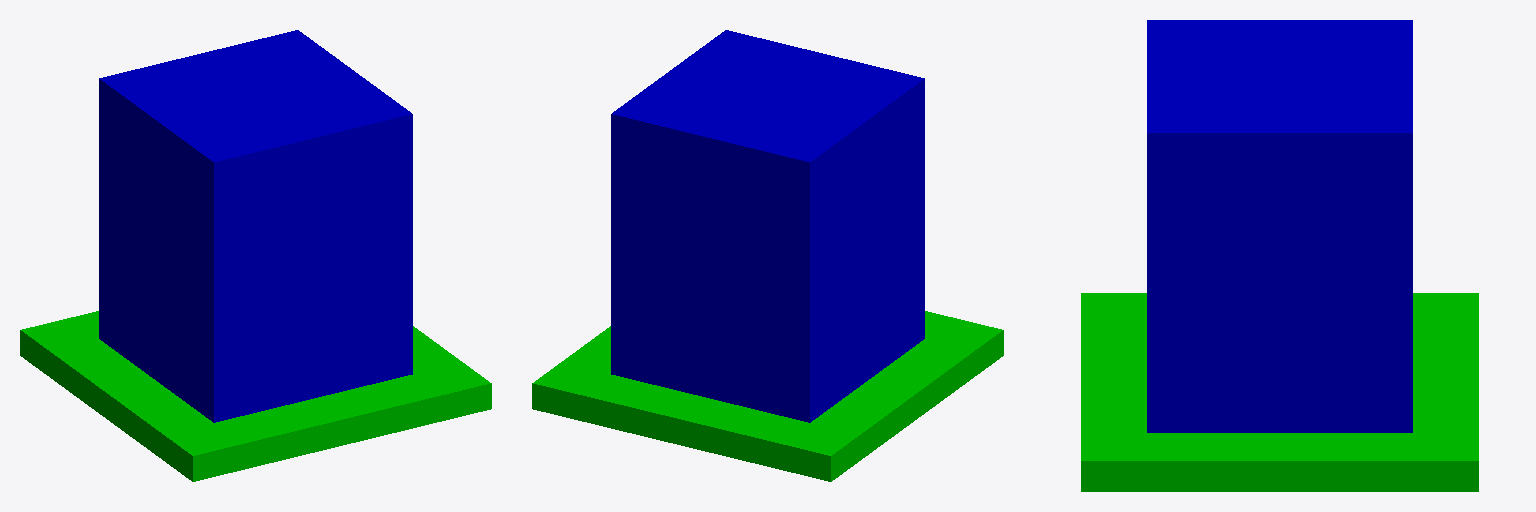
The robot description file, URDF, robot "table":
<?xml version="1.0"?>
<robot name="table">
    <link name="base">
        <inertial>
            <mass value="0.0"/>
            <inertia ixx="0.0" ixy="0.0" ixz="0.0" iyy="0.0" iyz="0.0" izz="0.0"/>
        </inertial>
        <visual>
            <origin xyz="0.0 0.0 0.0" rpy="0.0 0.0 0.0"/>
            <geometry>
                <box size="1.2 1.2 0.1"/>
            </geometry>
            <material name="green">
                <color rgba="0.0 0.8 0.0 1.0"/>
            </material>
        </visual>
    </link>

    <link name="collision_to_base">
        <inertial>
            <origin xyz="0.0 0.0 0.0" rpy="0.0 0.0 0.0"/>
            <mass value="0.0"/>
            <inertia ixx="0.0" ixy="0.0" ixz="0.0" iyy="0.0" iyz="0.0" izz="0.0"/>
        </inertial>
        <collision>
            <origin xyz="0.0 0.0 0.0" rpy="0.0 0.0 0.0"/>
            <geometry>
                <box size="1.2 1.2 0.1"/>
            </geometry>
        </collision>
    </link>

    <joint name="collision2base" type="fixed">
        <origin xyz="0.0 0.0 0.0" rpy="0.0 0.0 0.0"/>
        <parent link="base"/>
        <child link="collision_to_base"/>
    </joint>
    
    <link name="buttom">
        <inertial>
            <origin xyz="0.0 0.0 0.0" rpy="0.0 0.0 0.0"/>
            <mass value="100.0"/>
            <inertia ixx="100.0" ixy="0.0" ixz="0.0" iyy="10.0" iyz="0.0" izz="10.0"/>
        </inertial>
        <visual>
            <origin xyz="0.0 0.0 0.0" rpy="0.0 0.0 0.0"/>
            <geometry>
                <box size="0.8 0.8 1.0"/>
            </geometry>
            <material name="blue">
                <color rgba="0.0 0.0 0.8 1.0"/>
            </material>
        </visual>
        <collision>
            <origin xyz="0.0 0.0 0.0" rpy="0.0 0.0 0.0"/>
            <geometry>
                <box size="0.8 0.8 1.0"/>
            </geometry>
        </collision>
    </link>

    <joint name="base2buttom" type="fixed">
        <origin xyz="0.0 0.0 0.55" rpy="0.0 0.0 0.0"/>
        <parent link="base"/>
        <child link="buttom"/>
        <axis xyz="0.0 0.0 0.0"/>
        <limit lower="0.0" upper="0.0" effort="0.0" velocity="0.0"/>
    </joint>
</robot>

--- Facts derived from the render (not from the file) ---
Views: 3 orthographic renders of the robot side by side, from view 1: azimuth 30°, elevation 25°; view 2: azimuth 150°, elevation 25°; view 3: azimuth 270°, elevation 25°.
Model table with 3 links and 2 joints (2 fixed), rooted at base, posed all joints at 0.
Visible links, largest first — view 1: buttom, base; view 2: buttom, base; view 3: buttom, base.
Link boxes in pixels (x1,y1,x2,y2): buttom: (99, 30, 412, 422); base: (20, 311, 491, 481); buttom: (611, 30, 924, 422); base: (532, 311, 1003, 481); buttom: (1147, 20, 1412, 432); base: (1081, 293, 1478, 491).
Bounding box of the posed robot: 1.2 × 1.2 × 1.1 m (x, y, z).
Geometry: primitives only (box / cylinder / sphere), no mesh files.